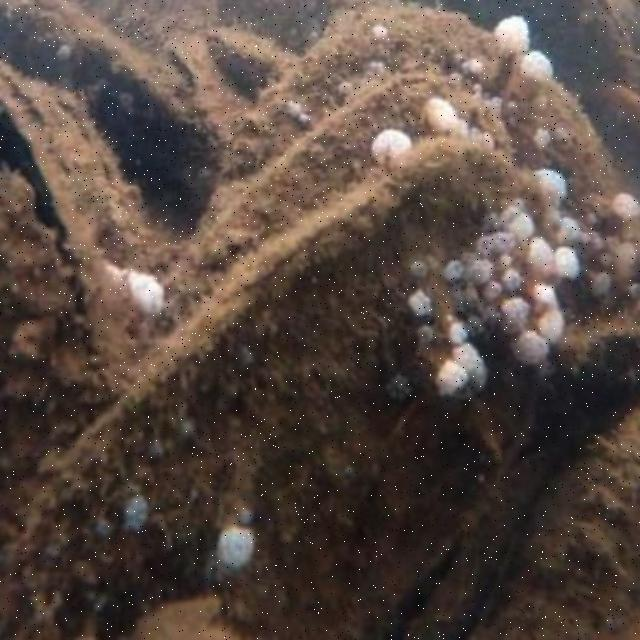Oyster-Closed: (0, 138, 560, 638), (191, 14, 638, 457), (133, 75, 525, 372), (0, 66, 157, 356), (0, 163, 110, 545), (0, 0, 243, 165), (487, 412, 638, 638), (213, 30, 295, 87)
Oyster-Open: (567, 0, 636, 89)
